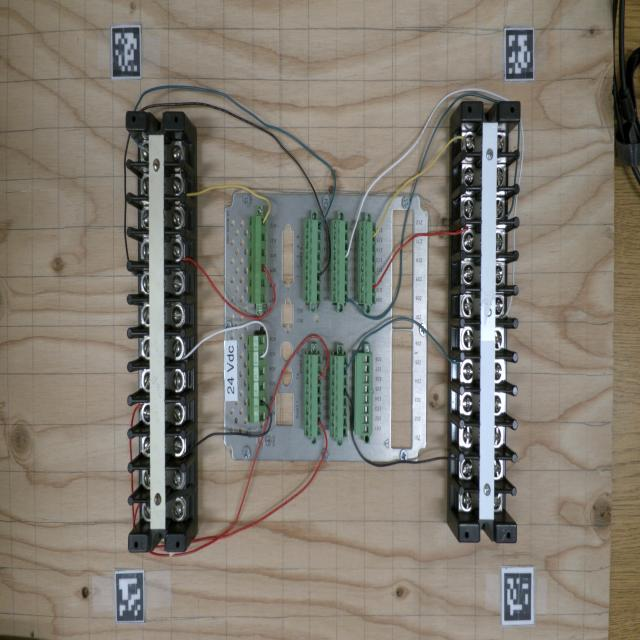Flathead_Block: (127, 112, 186, 552)
Phillips_Block: (459, 101, 520, 542)
Terminal_1: (248, 215, 267, 304), (247, 335, 265, 423)
Terminal_2: (303, 219, 322, 302), (304, 354, 322, 438), (330, 355, 348, 439), (331, 220, 349, 303), (358, 221, 376, 304)
